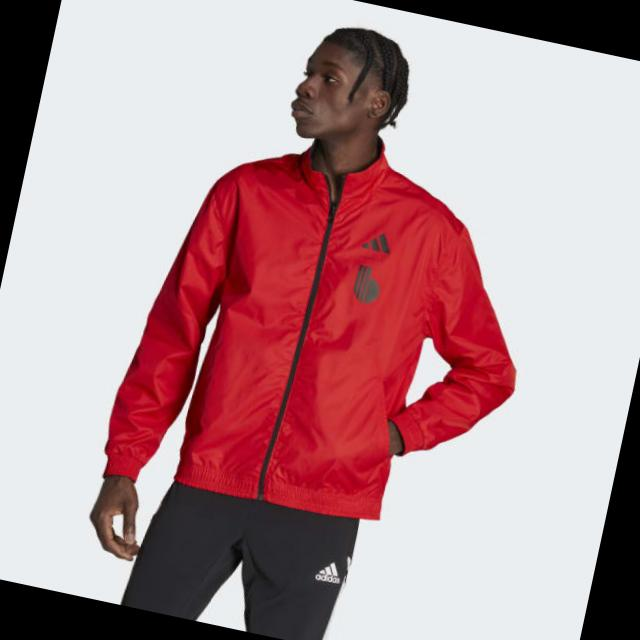Jacket: (72, 112, 556, 612)
